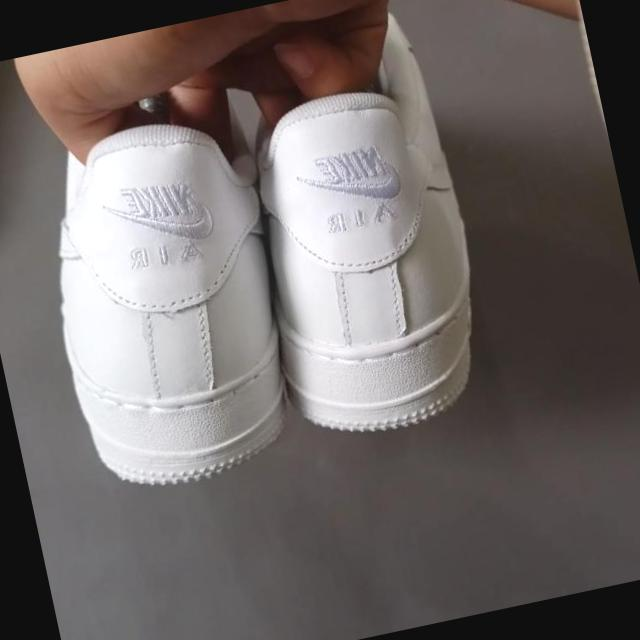nike_fake_airforce: (17, 98, 324, 510), (225, 64, 515, 453)
